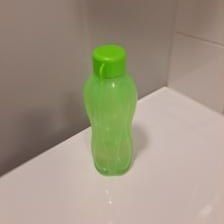bottle: (80, 42, 141, 177)
